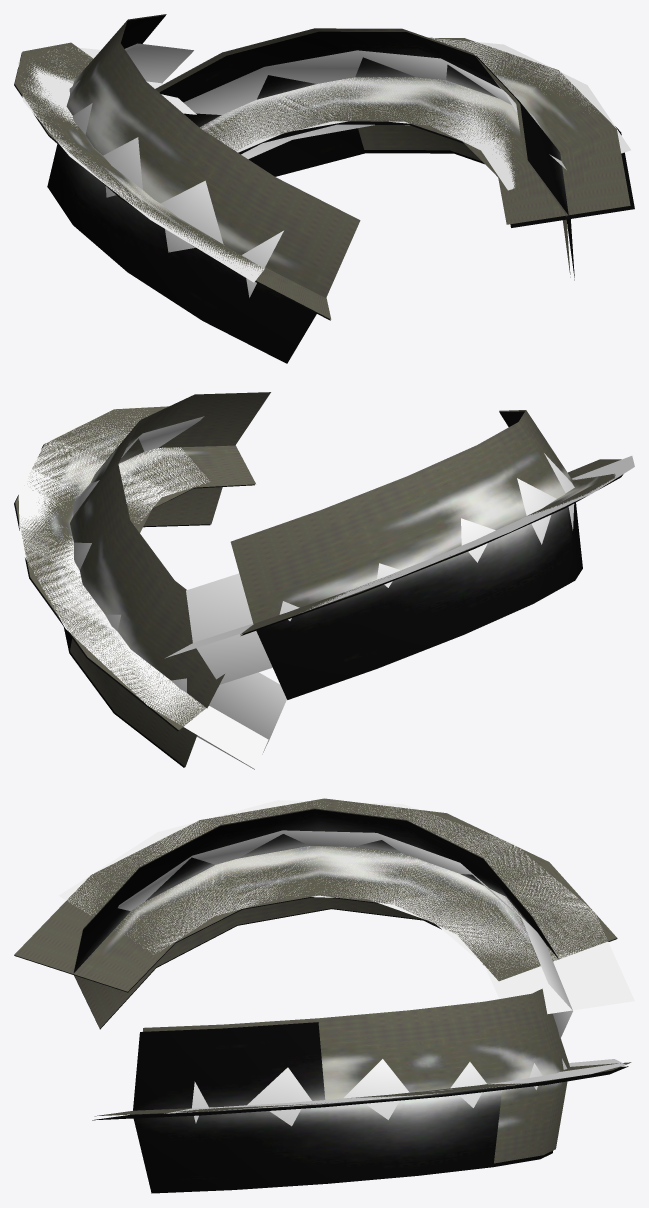
The model's file is Effect_1181bigskill.fbx.
3 renders of one model, top to bottom at view 1: azimuth 30°, elevation 25°; view 2: azimuth 150°, elevation 25°; view 3: azimuth 270°, elevation 25°, orthographic. The views are drawn at different scales.
Parts seen in each view (by area): view 1: Effect_1181_02 (×2), Effect_1181_01 (×2), Effect_1181_03 (×2); view 2: Effect_1181_02 (×2), Effect_1181_03 (×2), Effect_1181_01 (×2); view 3: Effect_1181_02 (×2), Effect_1181_01 (×2), Effect_1181_03 (×2).
Boxes of the visible parts, x1,y1,x2,y2 form: Effect_1181_02 (×2): [14, 14, 630, 319]; Effect_1181_01 (×2): [14, 15, 634, 363]; Effect_1181_03 (×2): [18, 38, 630, 297]; Effect_1181_02 (×2): [15, 392, 621, 766]; Effect_1181_03 (×2): [18, 401, 634, 769]; Effect_1181_01 (×2): [14, 411, 623, 767]; Effect_1181_02 (×2): [14, 798, 631, 1163]; Effect_1181_01 (×2): [14, 809, 628, 1193]; Effect_1181_03 (×2): [59, 800, 634, 1126].
Bounding box in the file's own units: 6.89 × 3.41 × 7.25.
Materials: 3 (3 with a texture image).
